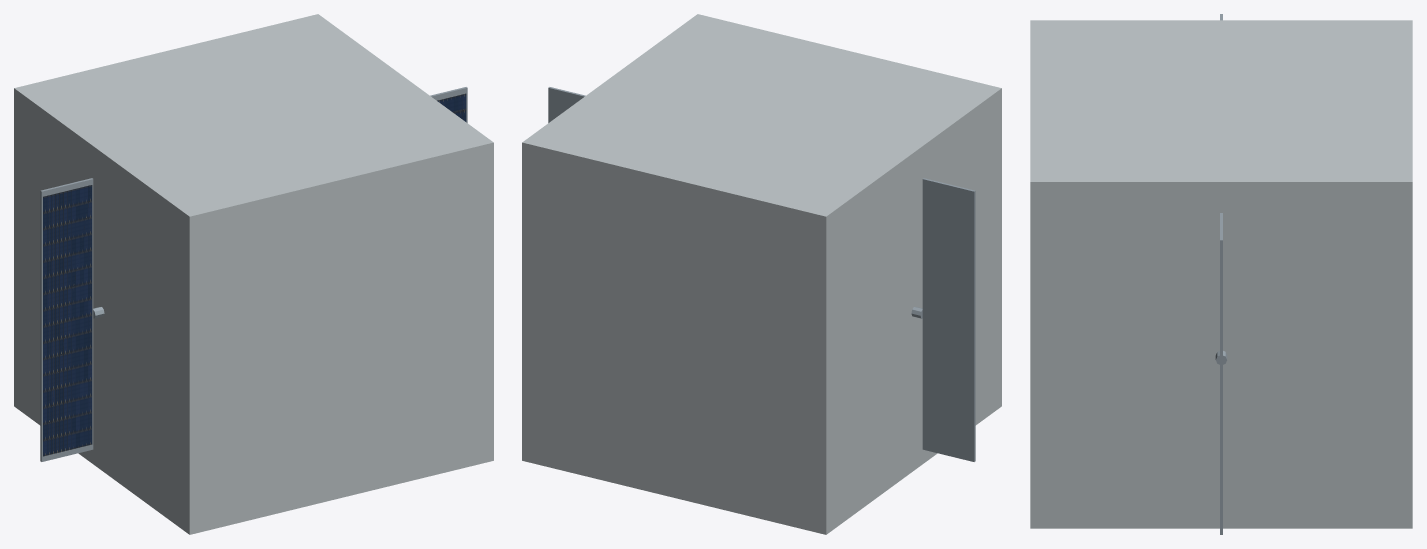
File: ref-dear-a10-58586.glb
The picture shows the model from 3 angles, left to right: view 1: azimuth 30°, elevation 25°; view 2: azimuth 150°, elevation 25°; view 3: azimuth 270°, elevation 25°; orthographic projection. The views are drawn at different scales.
Parts seen in each view (by area): view 1: Spacecraft body, Photovoltaic laminates, Array frame; view 2: Spacecraft body, Array frame (×2); view 3: Spacecraft body, Array frame.
Boxes of the visible parts, <box> form: Spacecraft body: <box>14,14,493,534</box>; Photovoltaic laminates: <box>43,185,92,456</box>; Array frame: <box>40,178,93,461</box>; Spacecraft body: <box>522,14,1001,534</box>; Array frame (×2): <box>548,87,975,461</box>; Spacecraft body: <box>1030,20,1412,528</box>; Array frame: <box>1220,213,1222,534</box>.
Bounding box in the file's own units: 1.4 × 1 × 1.
3 materials, 1 textured.
